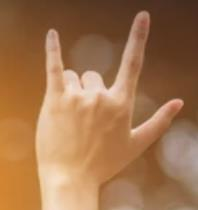back: (33, 8, 184, 174)
